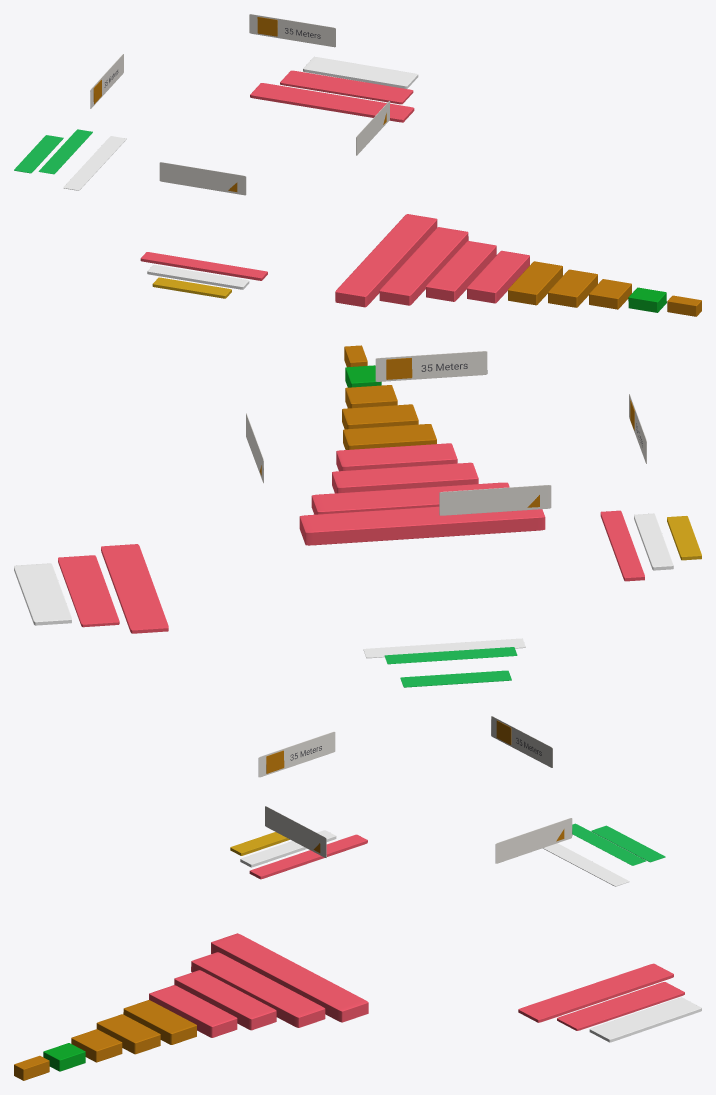
File: jump_domi17.gltf
The picture shows the model from 3 angles, top to bottom: view 1: azimuth 30°, elevation 25°; view 2: azimuth 150°, elevation 25°; view 3: azimuth 270°, elevation 25°; orthographic projection. The views are drawn at different scales.
Parts seen in each view (by area): view 1: Cube right (×13), Cube top (×2), Cube bottom (×3), Cube left (×3), Cube top center; view 2: Cube right (×11), Cube top (×2), Cube bottom (×3), Cube left (×3), Cube top center; view 3: Cube right (×13), Cube top (×2), Cube top center, Cube bottom (×3), Cube left (×3).
Boxes of the visible parts, bbox=[...] form: Cube right (×13): bbox=[90, 14, 701, 316]; Cube top (×2): bbox=[280, 57, 418, 104]; Cube bottom (×3): bbox=[140, 252, 267, 298]; Cube left (×3): bbox=[14, 129, 126, 190]; Cube top center: bbox=[250, 83, 414, 122]; Cube right (×11): bbox=[299, 351, 551, 545]; Cube top (×2): bbox=[14, 555, 119, 627]; Cube bottom (×3): bbox=[600, 510, 701, 581]; Cube left (×3): bbox=[363, 638, 525, 687]; Cube top center: bbox=[101, 544, 168, 633]; Cube right (×13): bbox=[14, 716, 572, 1080]; Cube top (×2): bbox=[557, 982, 701, 1042]; Cube top center: bbox=[518, 963, 673, 1022]; Cube bottom (×3): bbox=[230, 830, 367, 879]; Cube left (×3): bbox=[543, 823, 665, 886].
Bounding box in the file's own units: 18.37 × 6.49 × 24.57.
